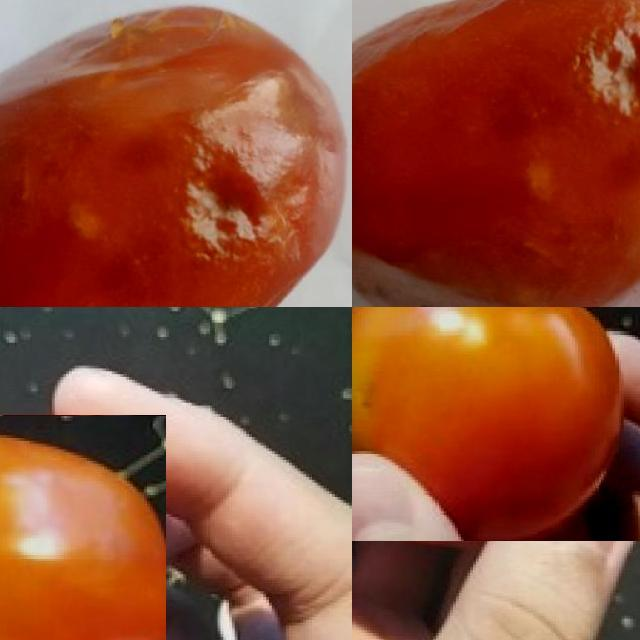Fresh Tomato: (352, 307, 640, 541), (0, 415, 166, 640)
Rotten Tomato: (0, 0, 352, 307), (352, 0, 640, 307)
